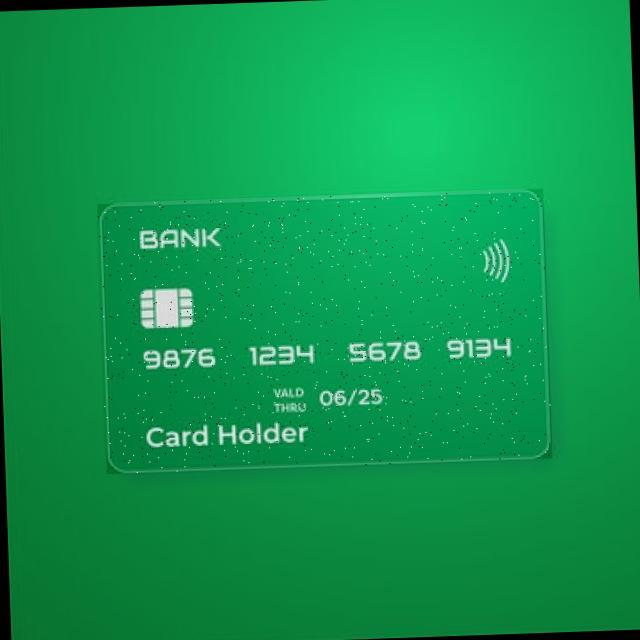payment_card: (98, 188, 551, 473)
